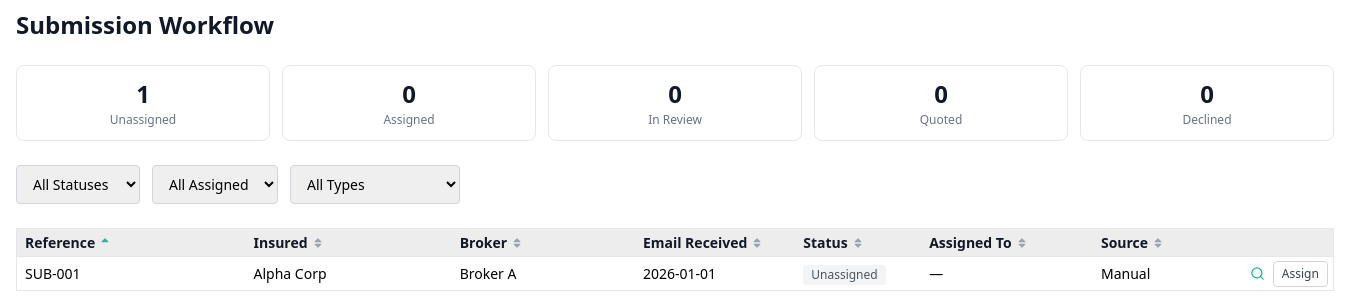
WorkflowPage — /workflow/submissions › T-WF-FE-F-R015b — empty filtered result shows "No submissions found."
The width and height of the screenshot is (1351, 308).
Expected: the link "SUB-001" is shown, [25,263,81,284]
Step 1. Select "Declined" in the 1st dropdown → coordinates (78, 184), box [16,165,140,204]
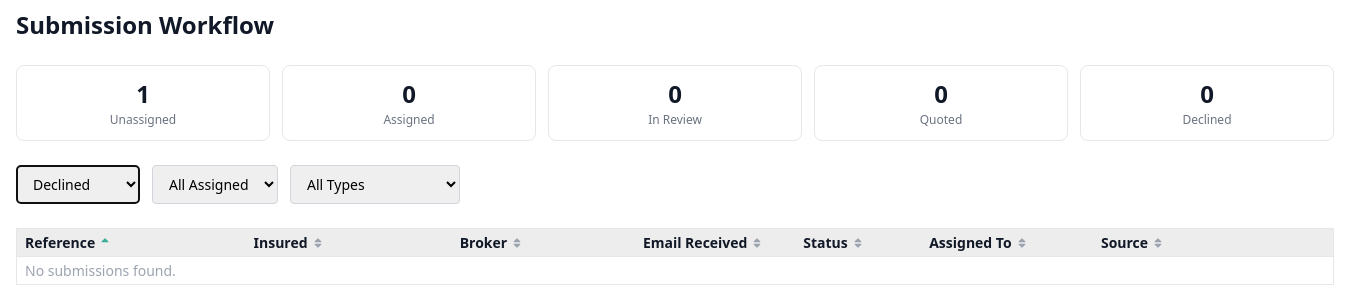
Now the text "No submissions found." is shown, box [16,257,1334,284]
